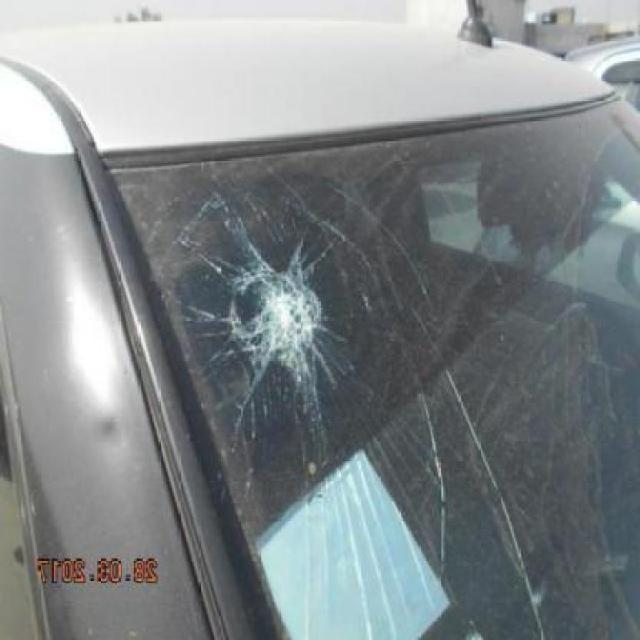damage: (226, 256, 326, 373)
